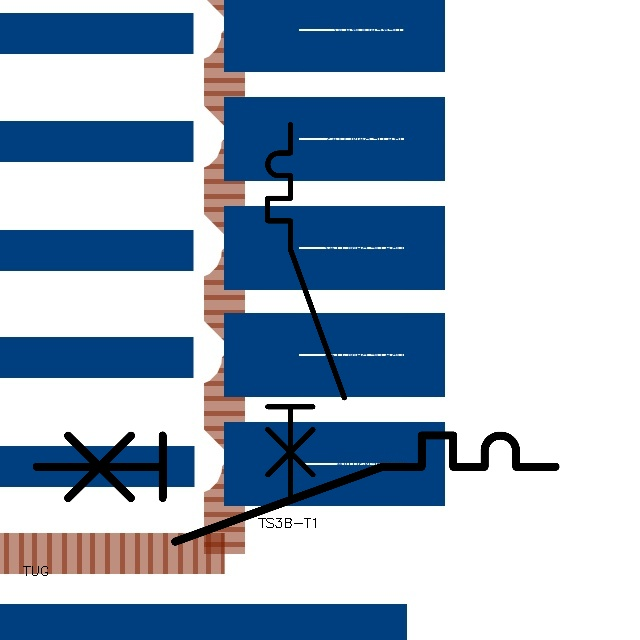interruptor_termomagnetico: (23, 422, 569, 555), (258, 115, 354, 507)
